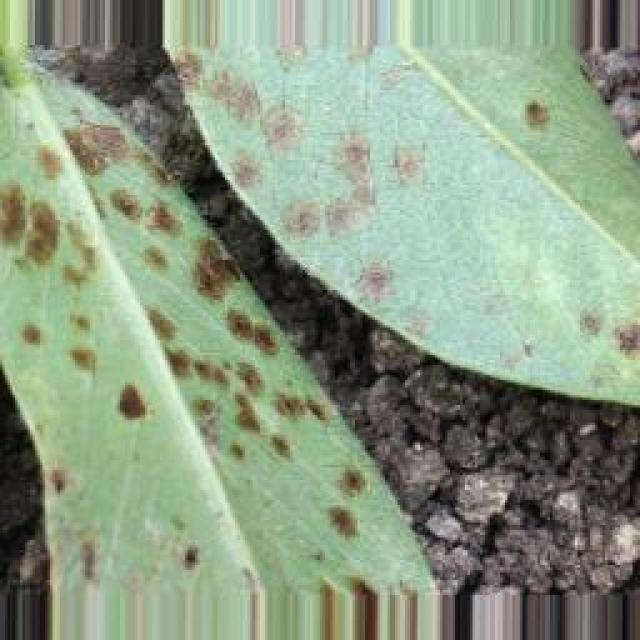Whitefly: (0, 12, 630, 628)
